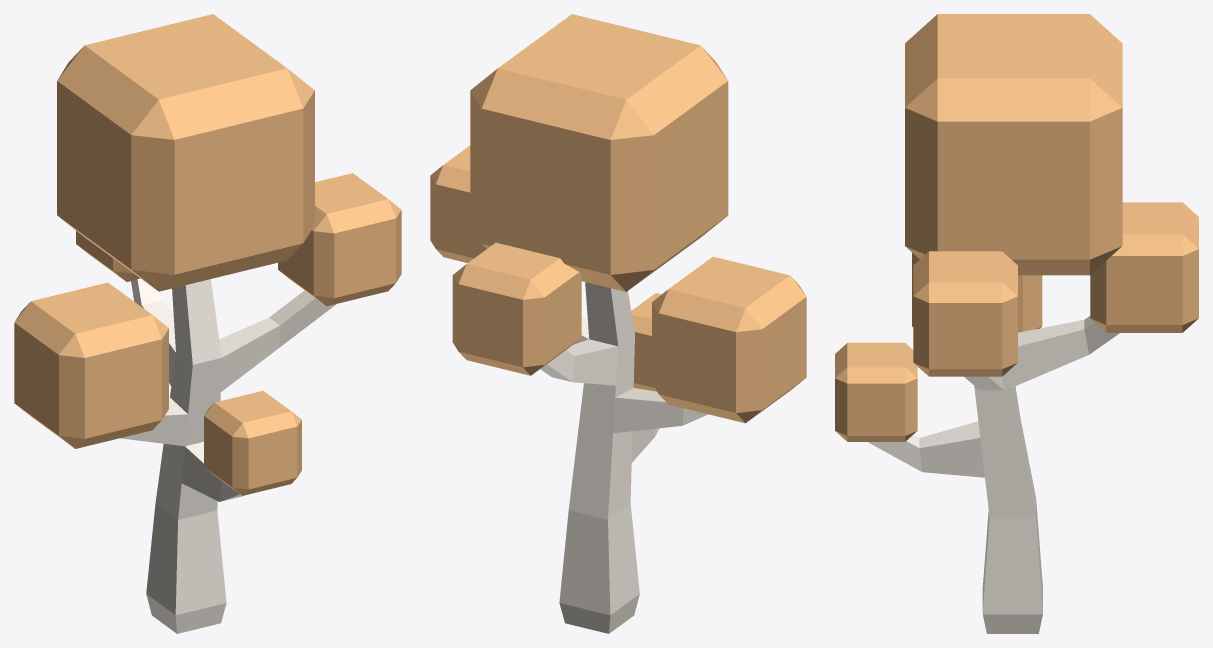
The model's file is tree_detailed_fall.gltf.
The picture shows the model from 3 angles, left to right: view 1: azimuth 30°, elevation 25°; view 2: azimuth 150°, elevation 25°; view 3: azimuth 270°, elevation 25°; orthographic projection. The views are drawn at different scales.
Visible parts, largest first — view 1: tree_detailed_fall; view 2: tree_detailed_fall; view 3: tree_detailed_fall.
Boxes of the visible parts, x1,y1,x2,y2 form: tree_detailed_fall: [14, 14, 401, 633]; tree_detailed_fall: [430, 14, 806, 633]; tree_detailed_fall: [835, 14, 1198, 633].
Bounding box in the file's own units: 0.8471 × 1.33 × 0.7616.
